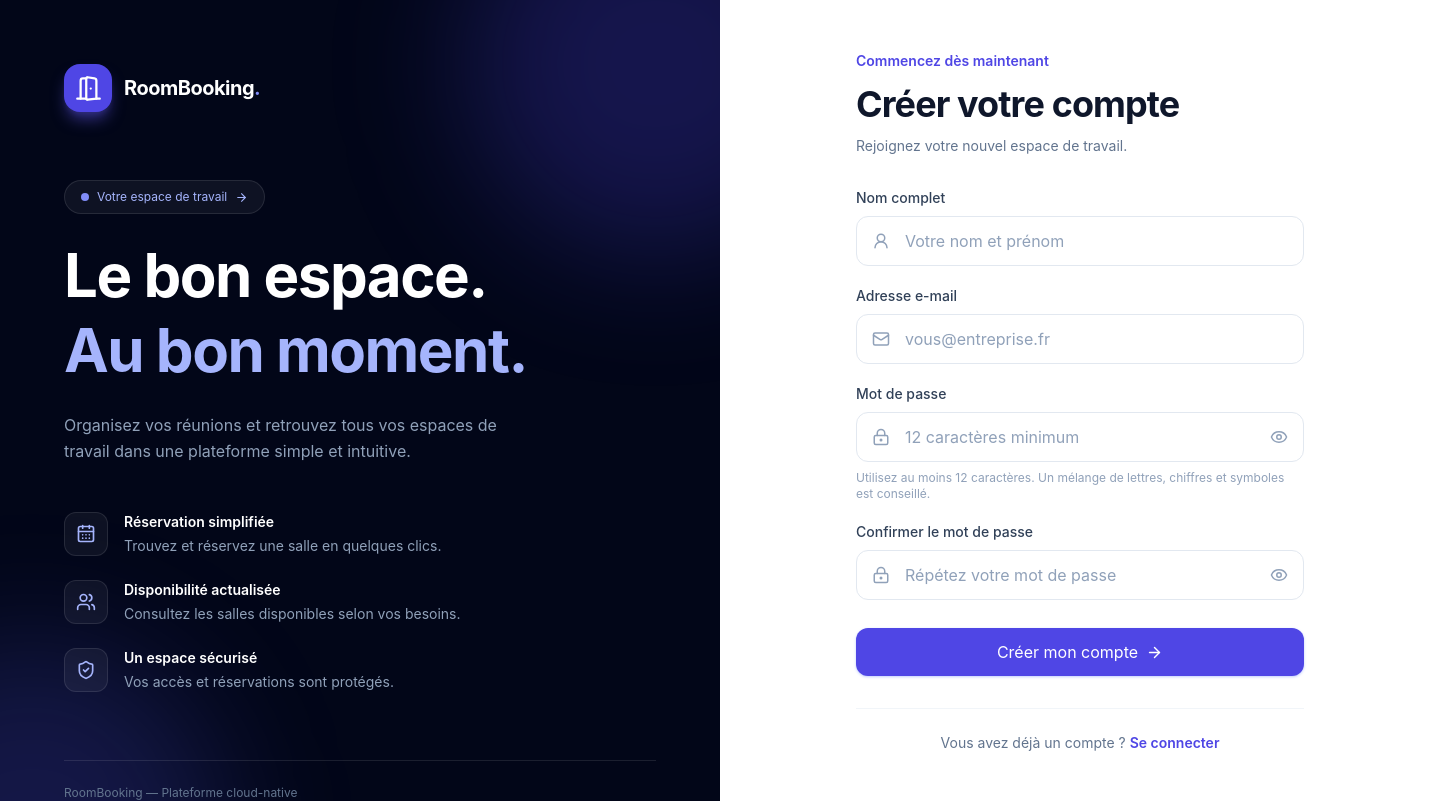
Test case: RegisterPage › rejects a password shorter than 12 characters
Step 1. Type "RoomBooking Test User" into the field labelled "Nom complet" → (1080, 241), box [856,216,1304,266]
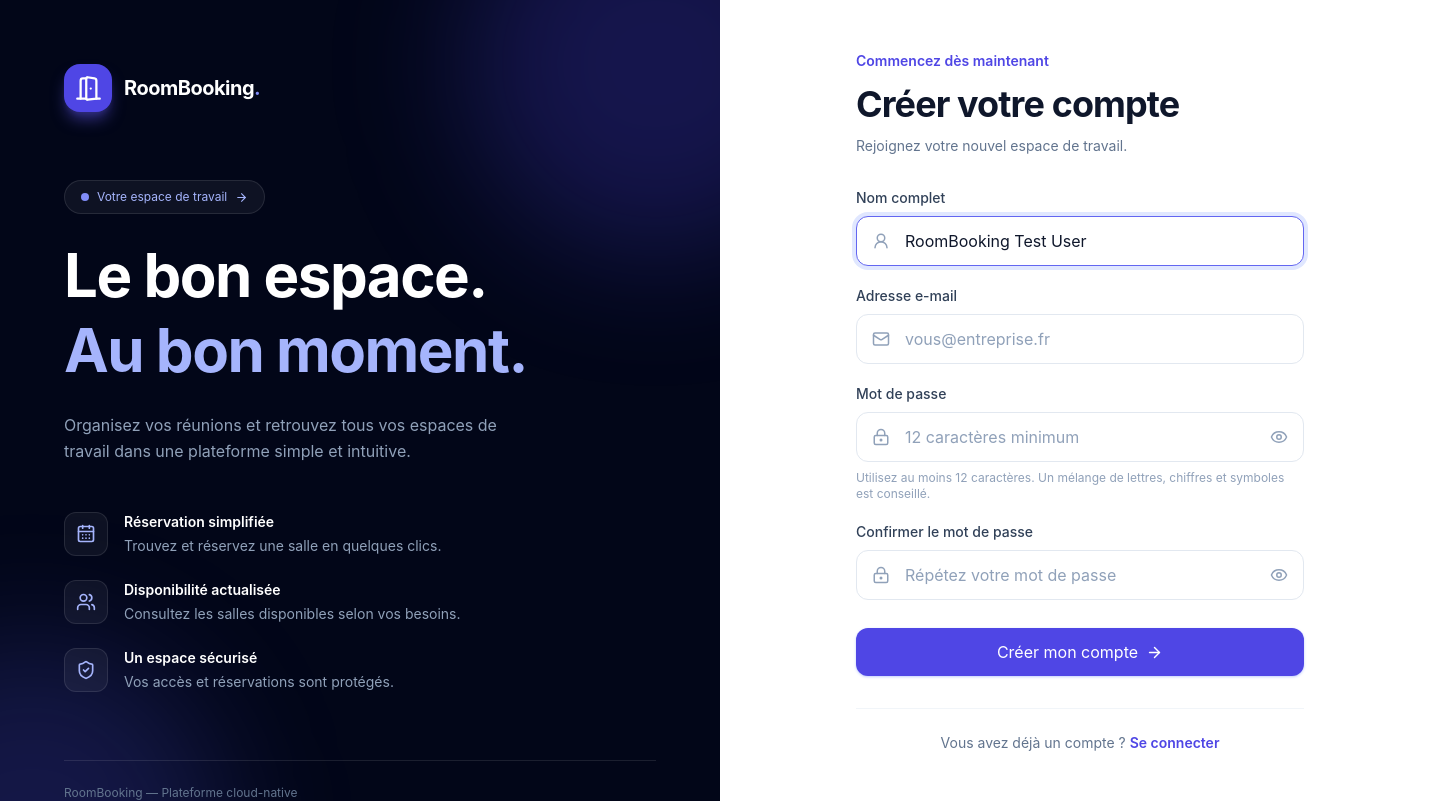
Step 2. Type "user@example.com" into the field labelled "Adresse e-mail" → (1080, 339), box [856,314,1304,364]
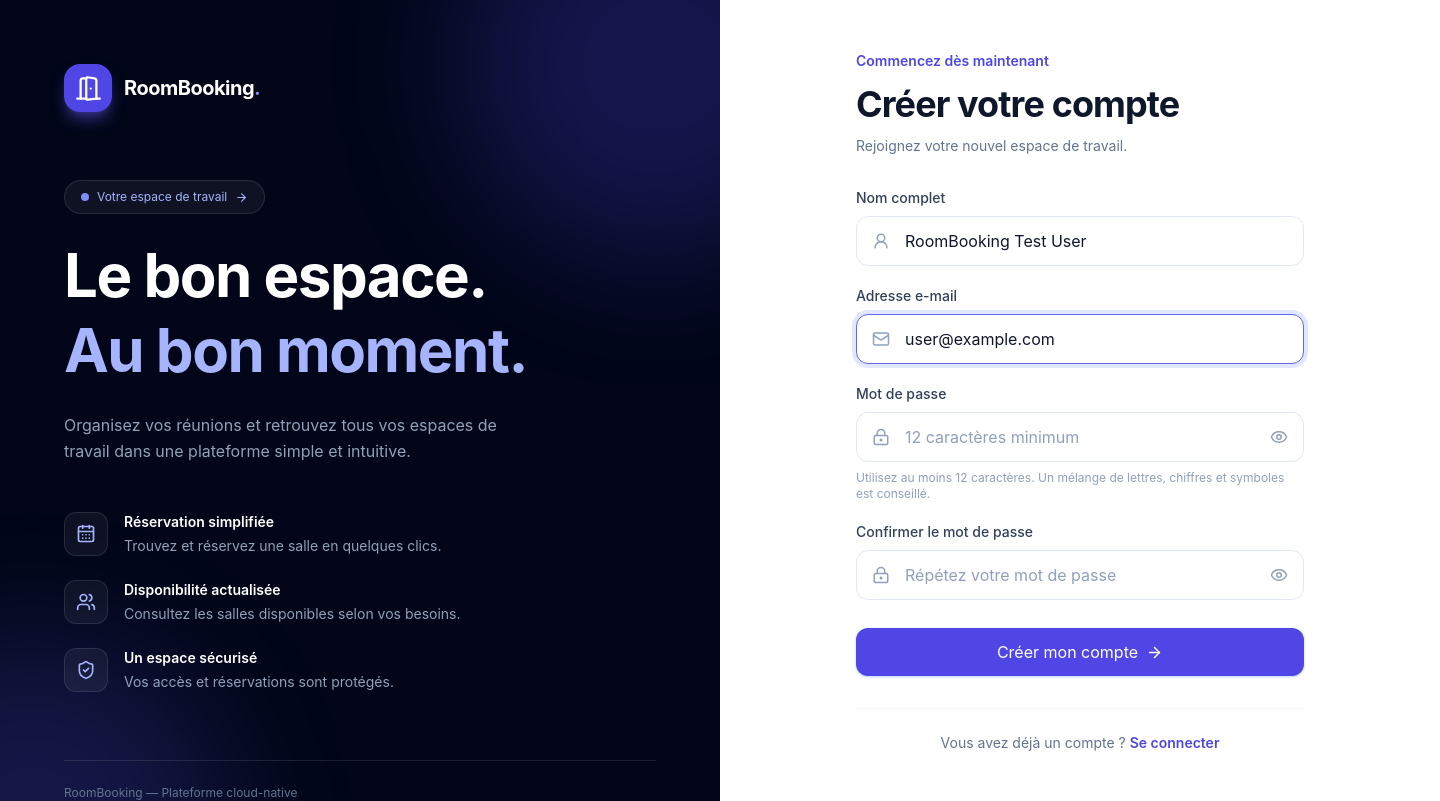
Step 3. Type "Short123!" into the password field labelled "Mot de passe" → (1080, 437), box [856,412,1304,462]
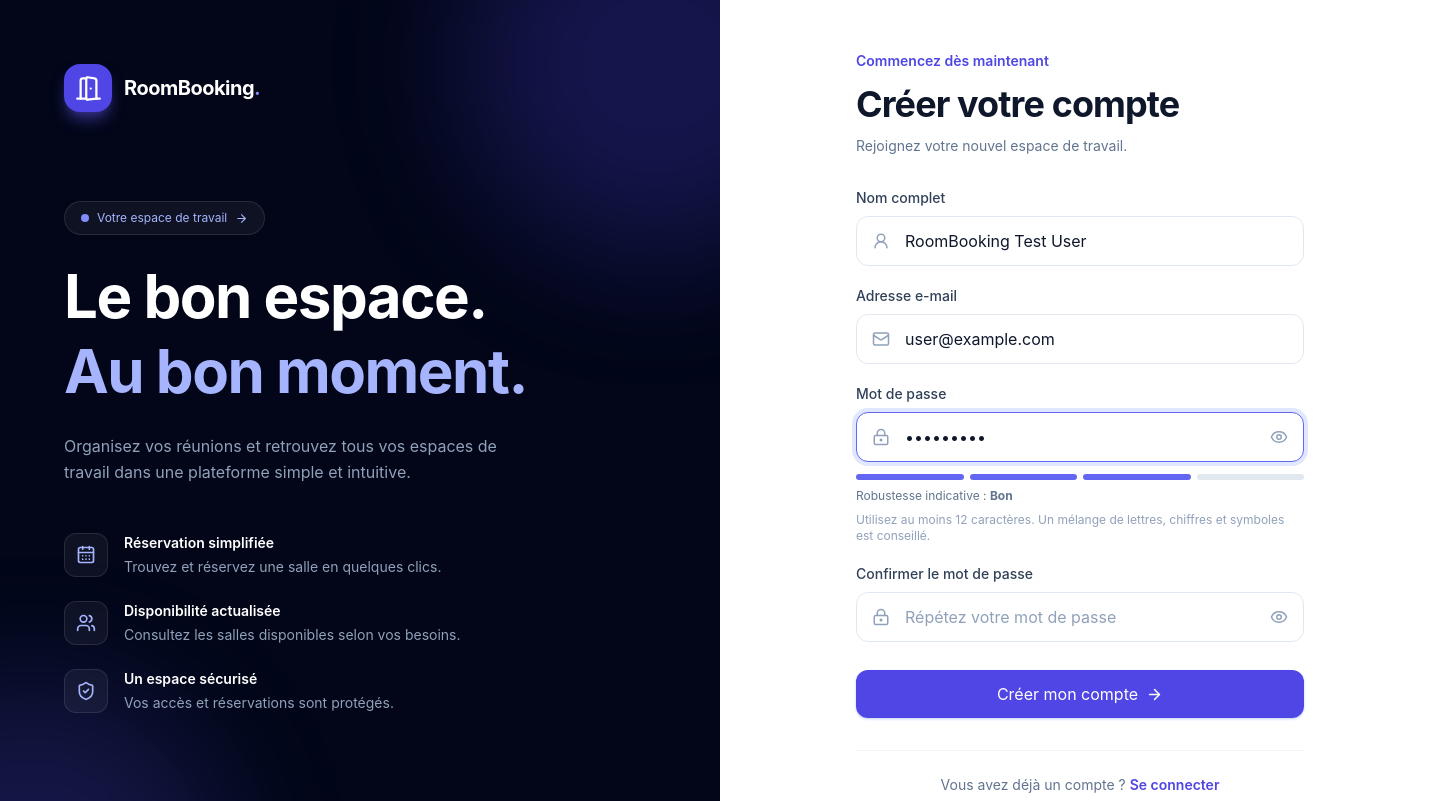
Step 4. Type "Short123!" into the password field labelled "Confirmer le mot de passe" → (1080, 617), box [856,592,1304,642]
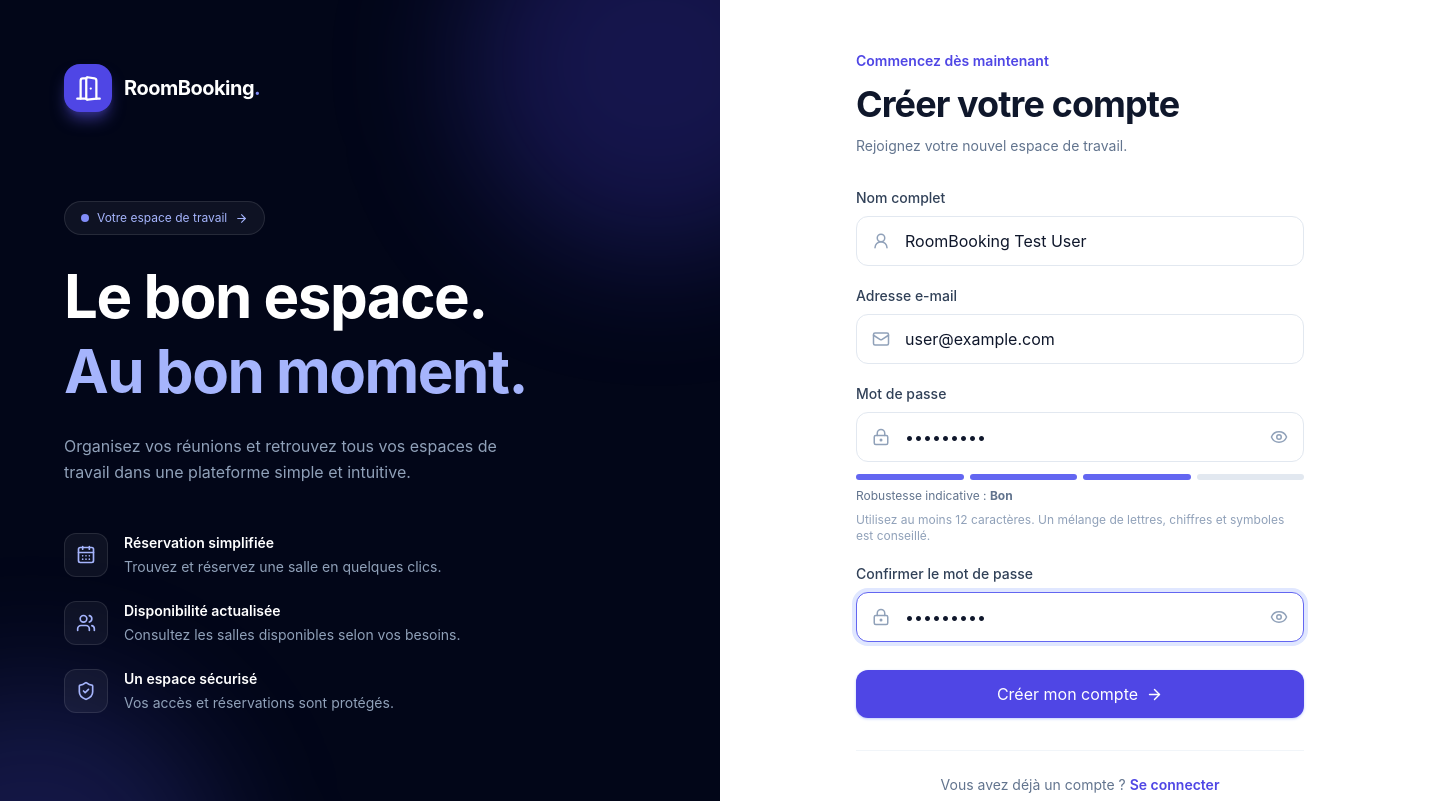
Step 5. Click the button "Créer mon compte" → (1080, 694), box [856,670,1304,718]
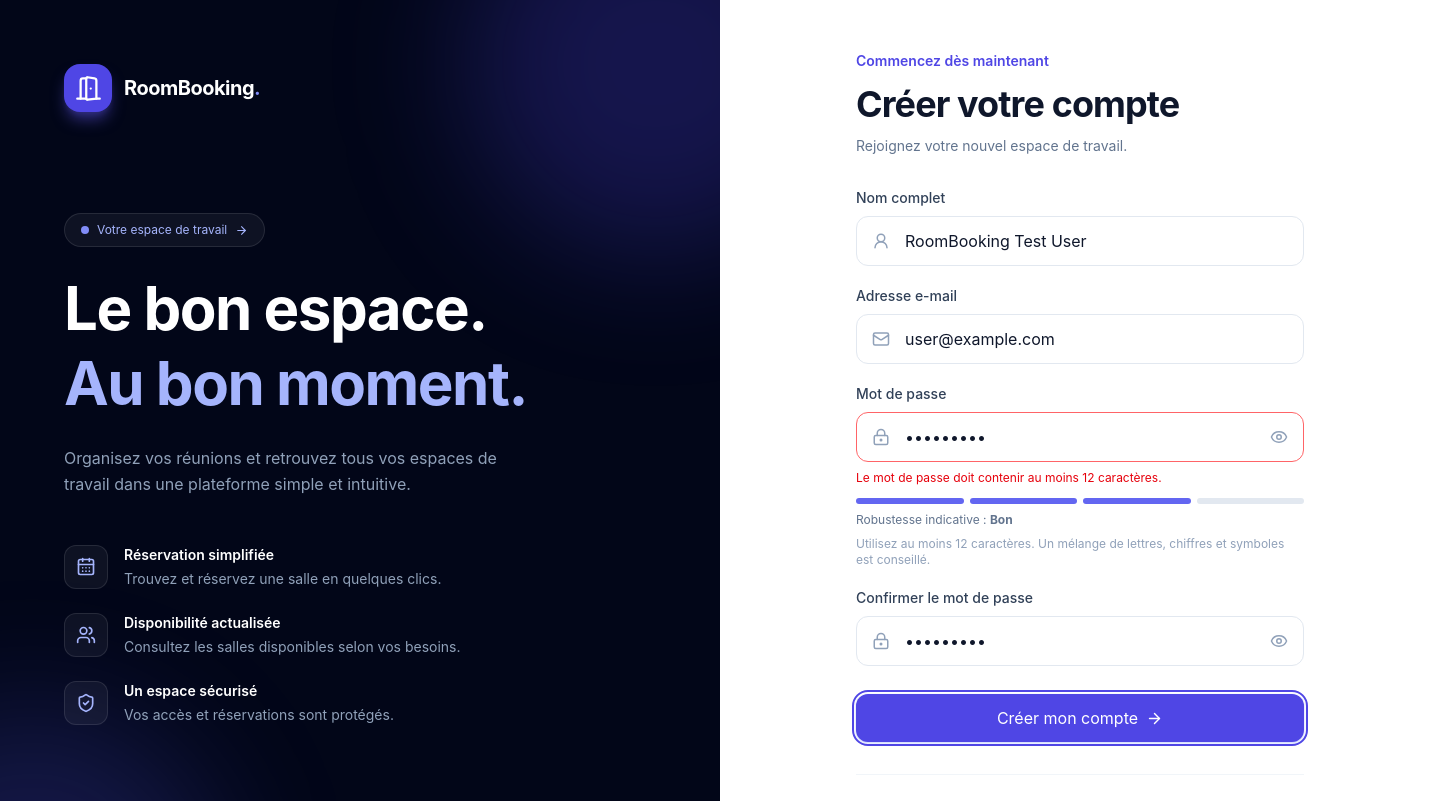
Expected: the text "Le mot de passe doit contenir au moins 12 caractères." is shown, [856,470,1162,485]
